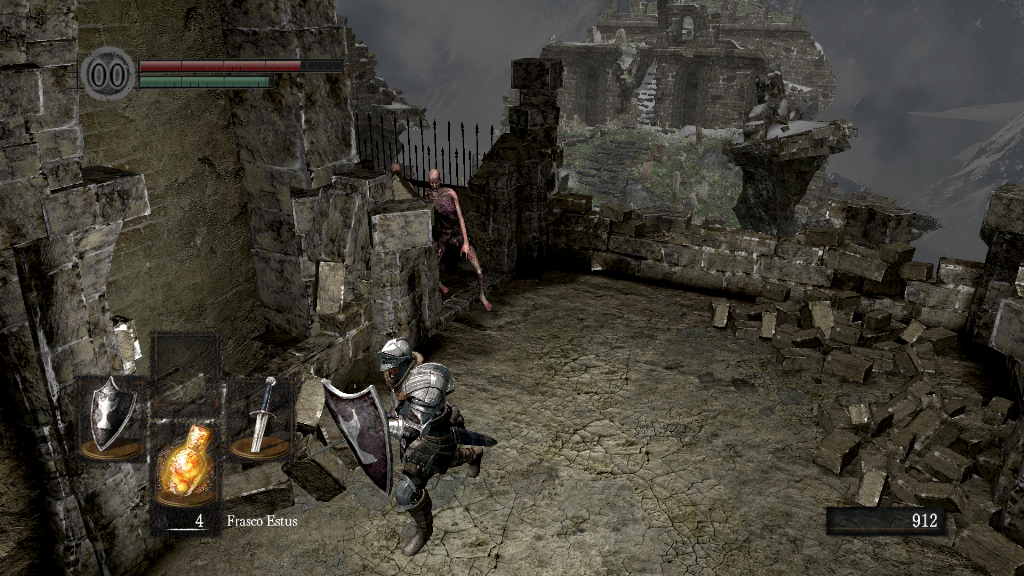health: (138, 58, 343, 71)
hollow: (419, 165, 493, 314)
humanity: (80, 45, 136, 102)
player: (320, 337, 501, 558)
souls: (825, 506, 945, 536)
stamina: (138, 74, 274, 88)
